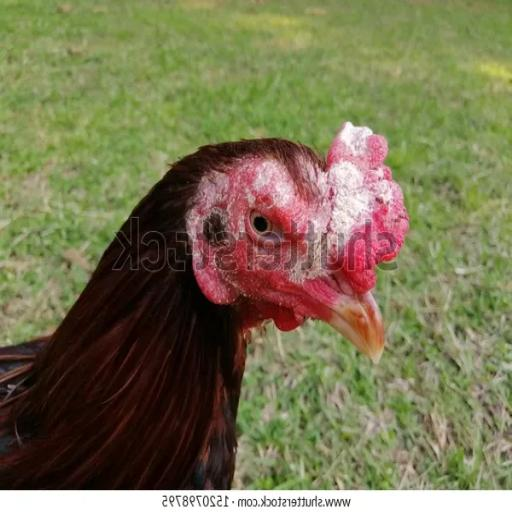disease: (188, 156, 353, 302), (312, 101, 404, 301)
